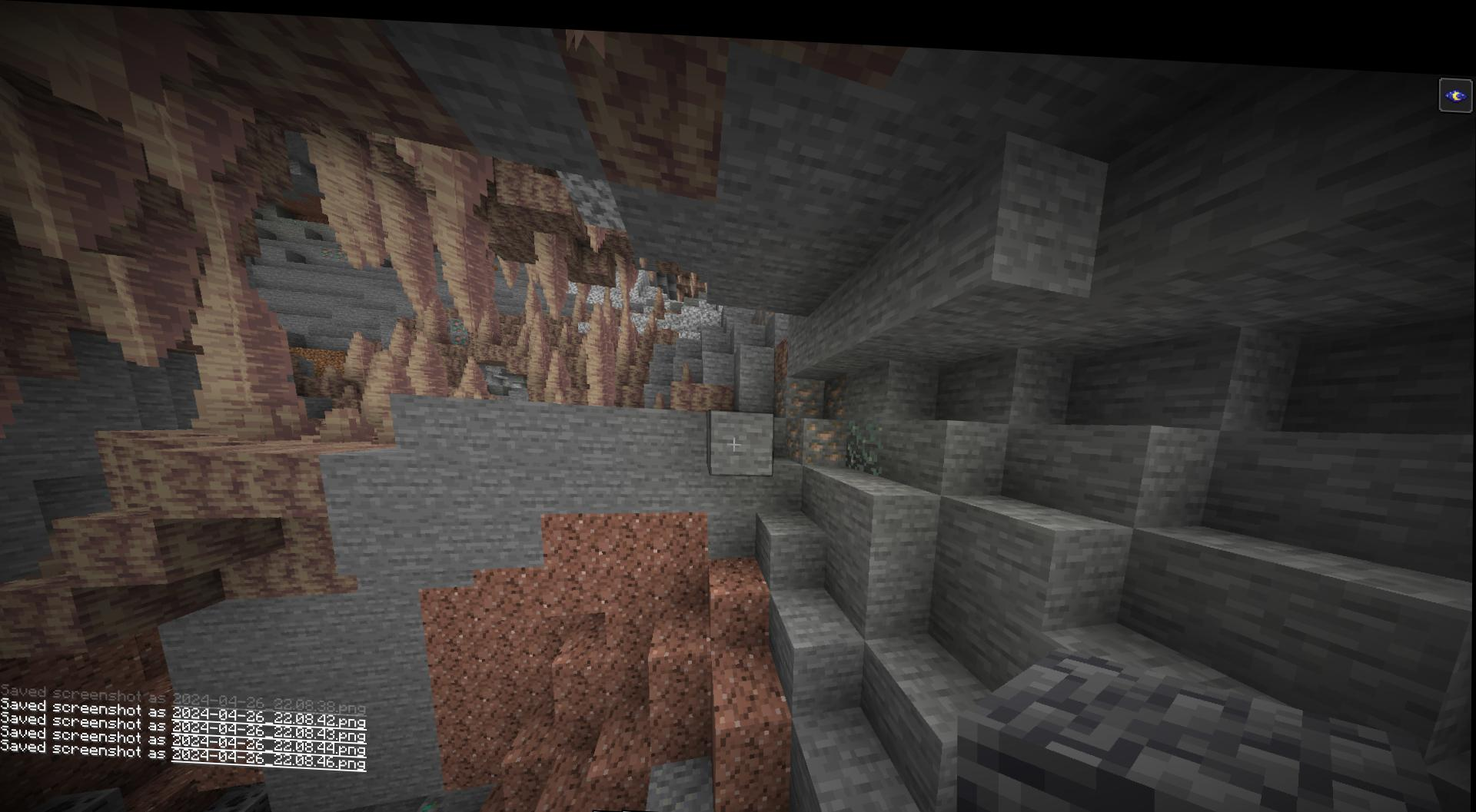iron ore: (773, 370, 852, 447)
